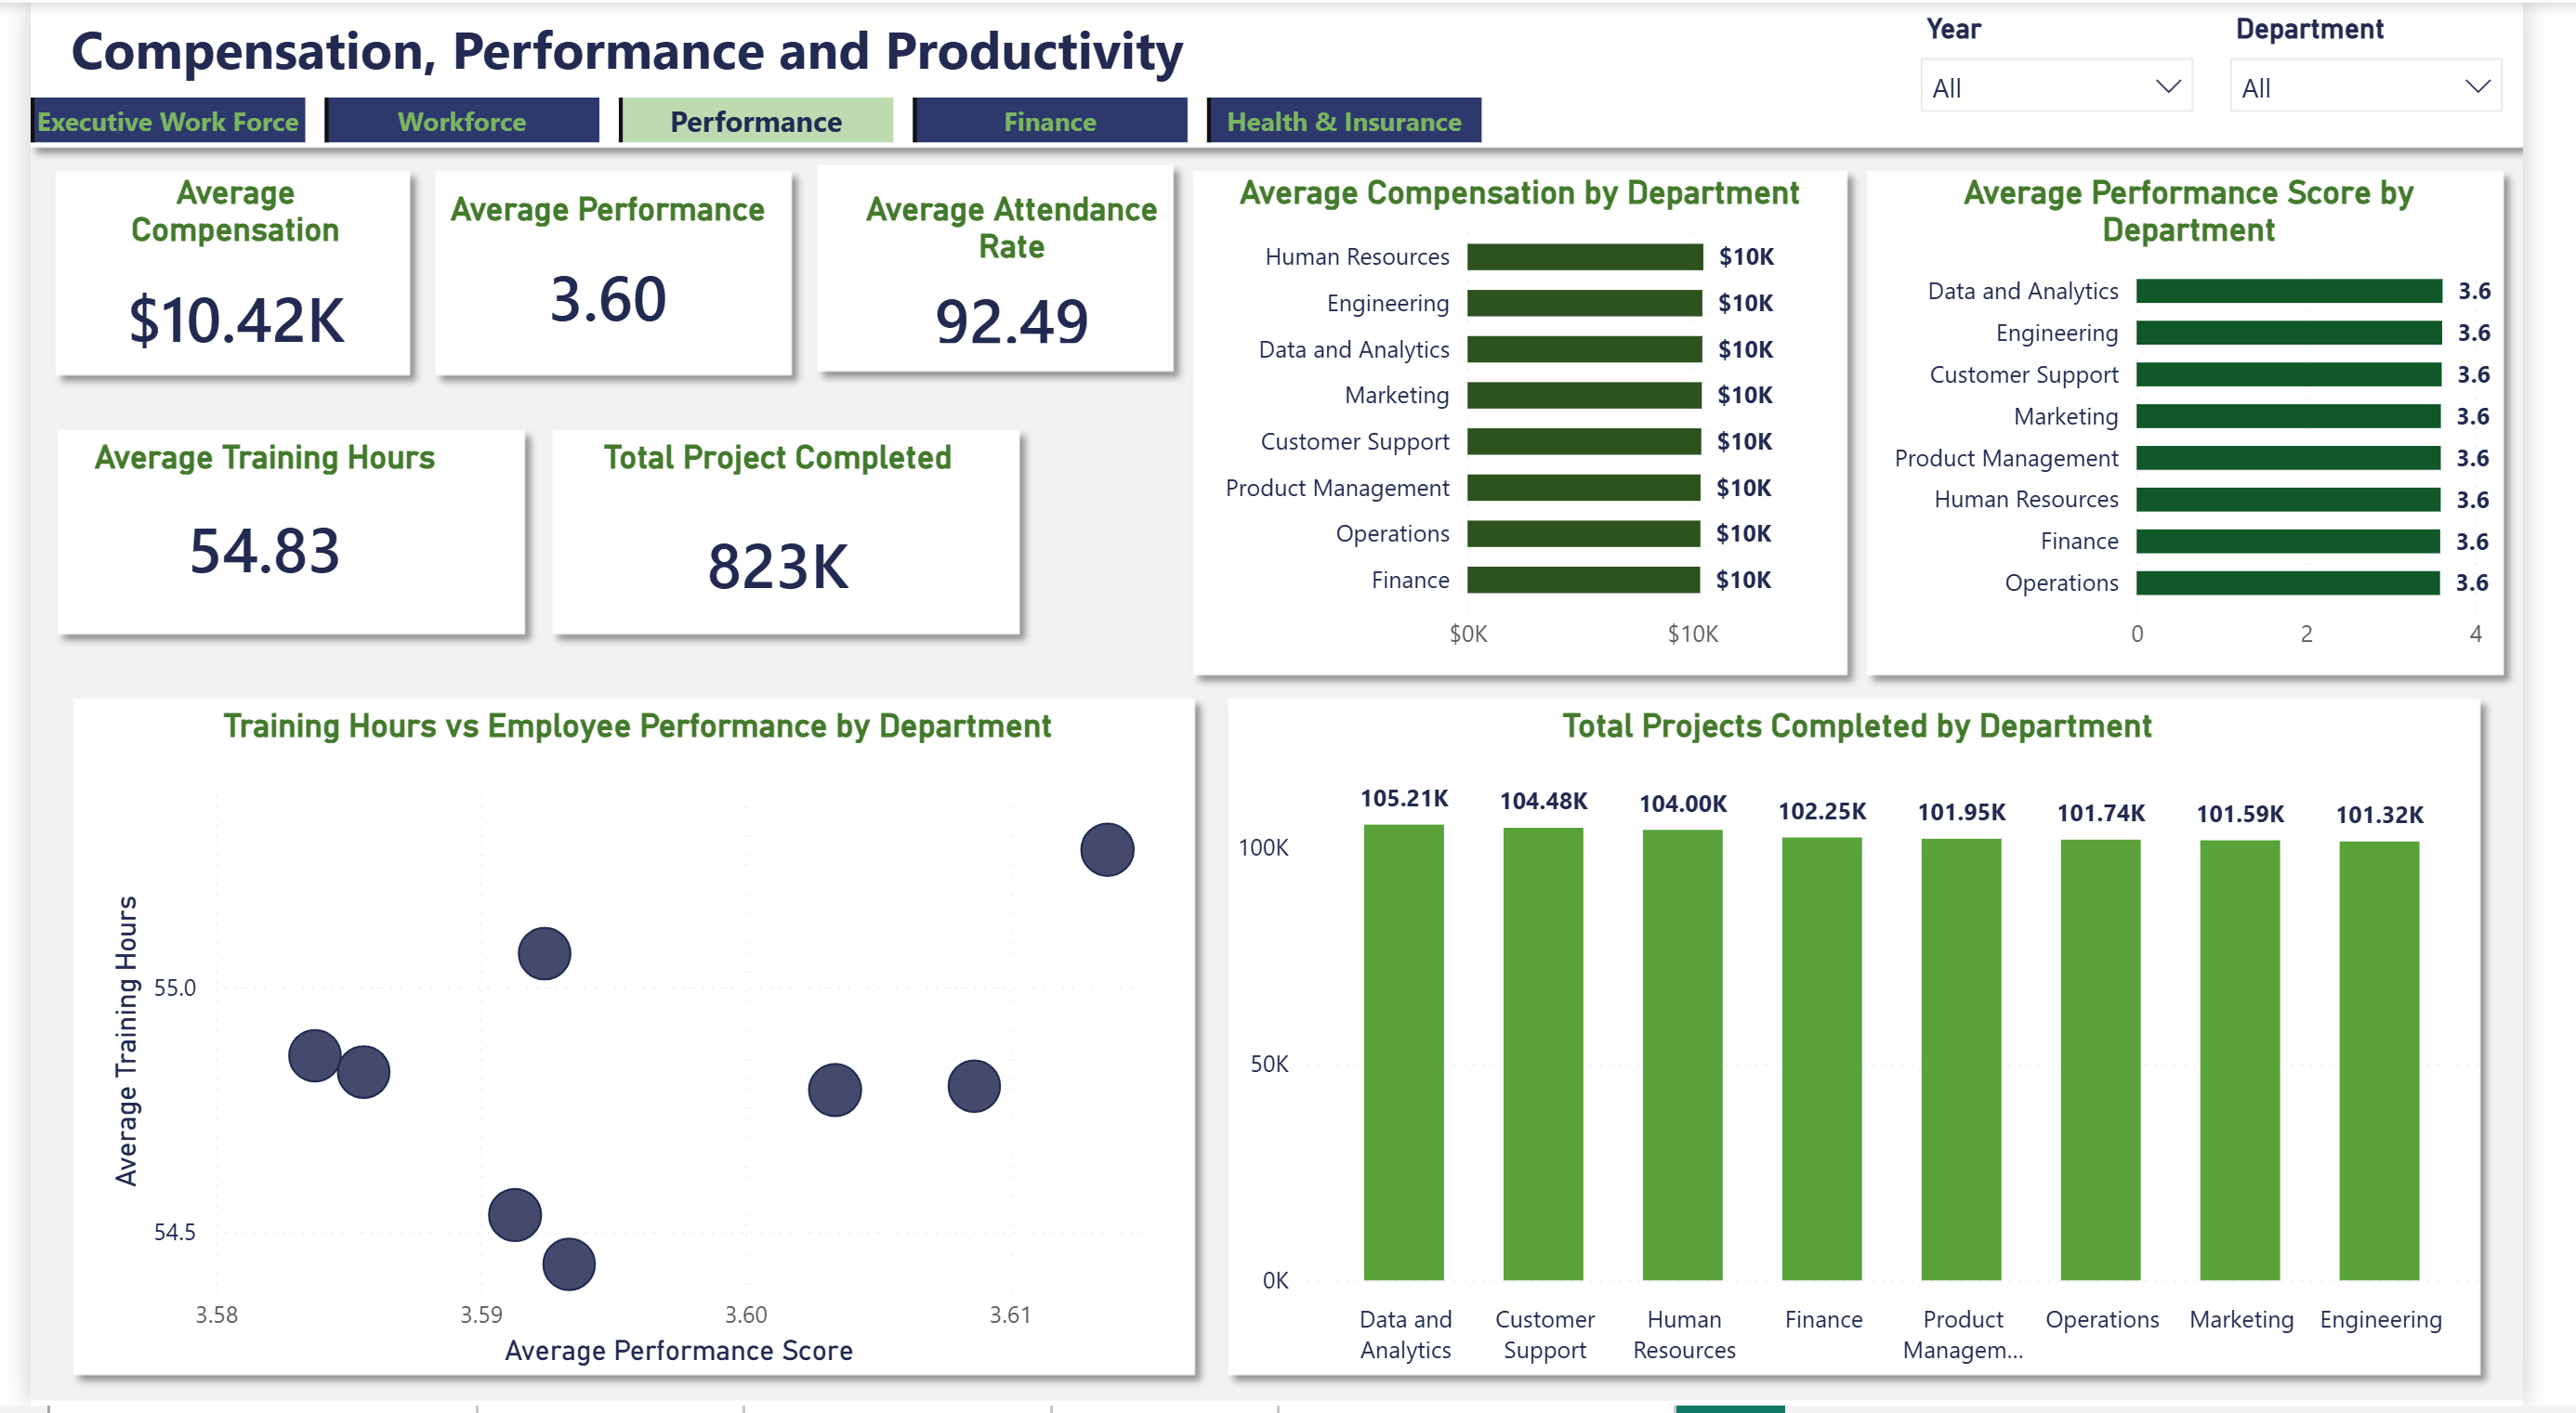

What the dashboard file says about the page in this screenshot:
{"tool":"powerbi","page":{"name":"Performance","canvas":[1280,720],"ordinal":2},"visuals":[{"type":"cardVisual","title":"Average Compensation","fields":{"Data":["company_hr_db vw_employee_profile.Average Compensation"]},"box":[14,88,182,112],"z":0},{"type":"cardVisual","title":"Average Performance","fields":{"Data":["company_hr_db vw_employee_performance_analysis.Average Performance Score"]},"box":[200,96,192,92],"z":1000},{"type":"cardVisual","title":"Total Project Completed","fields":{"Data":["company_hr_db vw_employee_performance_analysis.Total Projects Completed"]},"box":[288,224,192,96],"z":2000},{"type":"cardVisual","title":"Average Training Hours","fields":{"Data":["company_hr_db vw_employee_performance_analysis.Average Training Hours"]},"box":[24,224,192,96],"z":3000},{"type":"cardVisual","title":"Average Attendance Rate","fields":{"Data":["company_hr_db vw_employee_performance_analysis.Average Attendance Rate"]},"box":[408,96,192,96],"z":4000},{"type":"clusteredBarChart","fields":{"Category":["company_hr_db vw_employee_profile.department_name"],"Y":["company_hr_db vw_employee_profile.Average Compensation"]},"box":[600,87,330,255],"z":5000},{"type":"clusteredBarChart","title":"Average Performance Score by Department","fields":{"Category":["company_hr_db vw_employee_performance_analysis.department_name"],"Y":["company_hr_db vw_employee_performance_analysis.Average Performance Score"]},"box":[944,87,330,255],"z":6000},{"type":"clusteredColumnChart","title":"Total Projects Completed by Department","fields":{"Category":["company_hr_db vw_employee_performance_analysis.department_name"],"Y":["company_hr_db vw_employee_performance_analysis.Total Projects Completed"]},"box":[614,360,648,346],"z":7000},{"type":"textbox","box":[16,0,752,48],"z":8000},{"type":"slicer","fields":{"Values":["company_hr_db vw_employee_profile.Department"]},"box":[1120,0,160,64],"z":9000},{"type":"slicer","fields":{"Values":["company_hr_db vw_employee_performance_analysis.year"]},"box":[960,0,160,64],"z":10000},{"type":"pageNavigator","box":[0,48,748,23],"z":11000},{"type":"scatterChart","title":"Training Hours vs Employee Performance by Department ","fields":{"Category":["company_hr_db vw_employee_performance_analysis.department_name"],"Size":["Sum(company_hr_db vw_employee_performance_analysis.projects_completed)"],"X":["company_hr_db vw_employee_performance_analysis.Average Performance Score"],"Y":["company_hr_db vw_employee_performance_analysis.Average Training Hours"]},"box":[36,360,552,344],"z":12000}]}

Visuals, with their boxes in screenshot pixels (x1, y1, x2, y2), scaled from the page's 1280x720 canvas onto the 2576x1413 screenshot:
"Average Compensation" cardVisual: [left=28, top=173, right=394, bottom=392]
"Average Performance" cardVisual: [left=402, top=189, right=789, bottom=369]
"Total Project Completed" cardVisual: [left=580, top=439, right=966, bottom=628]
"Average Training Hours" cardVisual: [left=48, top=439, right=435, bottom=628]
"Average Attendance Rate" cardVisual: [left=821, top=189, right=1207, bottom=377]
clusteredBarChart - company_hr_db vw_employee_profile.department_name x company_hr_db vw_employee_profile.Average Compensation: [left=1207, top=171, right=1872, bottom=671]
"Average Performance Score by Department" clusteredBarChart: [left=1899, top=171, right=2564, bottom=671]
"Total Projects Completed by Department" clusteredColumnChart: [left=1236, top=706, right=2540, bottom=1385]
textbox: [left=33, top=0, right=1545, bottom=94]
slicer - company_hr_db vw_employee_profile.Department: [left=2254, top=0, right=2575, bottom=125]
slicer - company_hr_db vw_employee_performance_analysis.year: [left=1932, top=0, right=2254, bottom=125]
pageNavigator: [left=0, top=94, right=1505, bottom=139]
"Training Hours vs Employee Performance by Department " scatterChart: [left=72, top=706, right=1183, bottom=1381]
